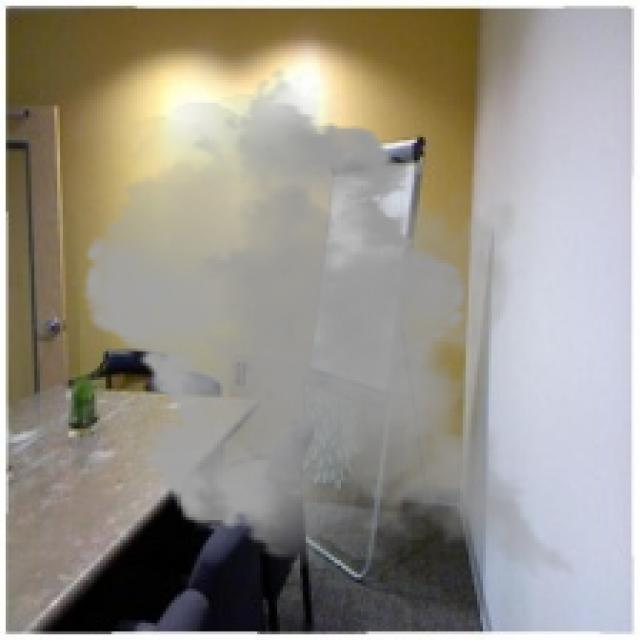smoke: (68, 66, 603, 588)
